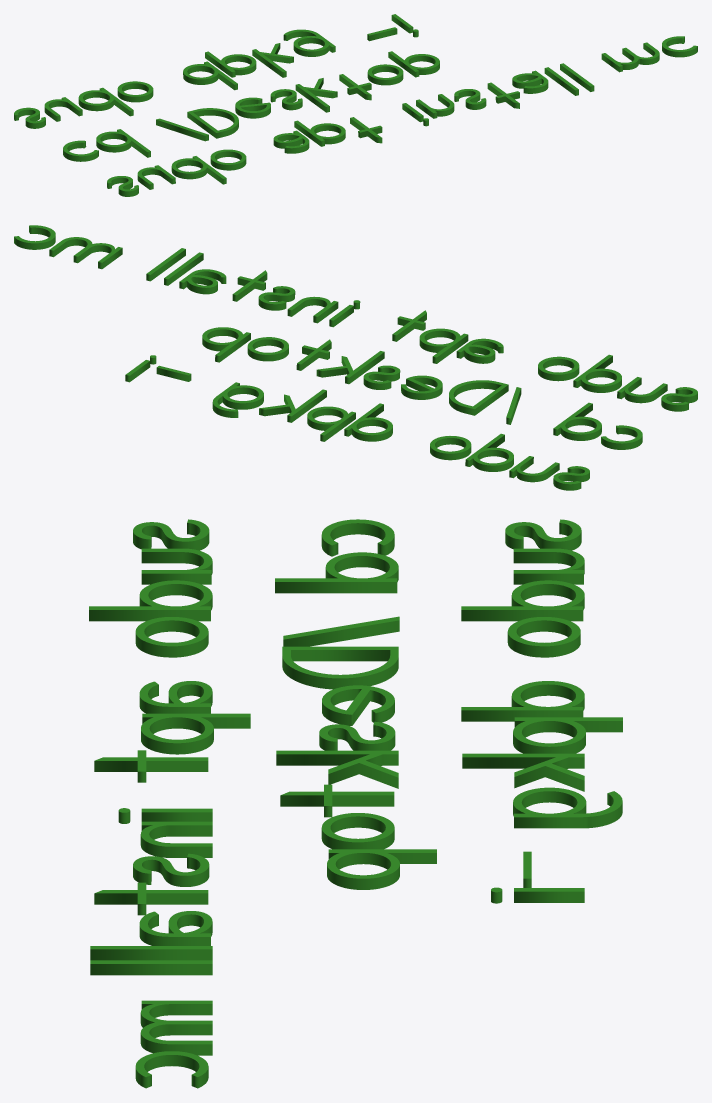
File: sisText.glb
The picture shows the model from 3 angles, top to bottom: view 1: azimuth 30°, elevation 25°; view 2: azimuth 150°, elevation 25°; view 3: azimuth 270°, elevation 25°; orthographic projection. The views are drawn at different scales.
Visible parts, largest first — view 1: Text.003; view 2: Text.003; view 3: Text.003.
Boxes of the visible parts, box(x1,y1,x2,y2) form: Text.003: box(14, 14, 697, 196); Text.003: box(14, 225, 697, 490); Text.003: box(89, 519, 622, 1088).
Bounding box in the file's own units: 4.02 × 0.0628 × 1.6.
